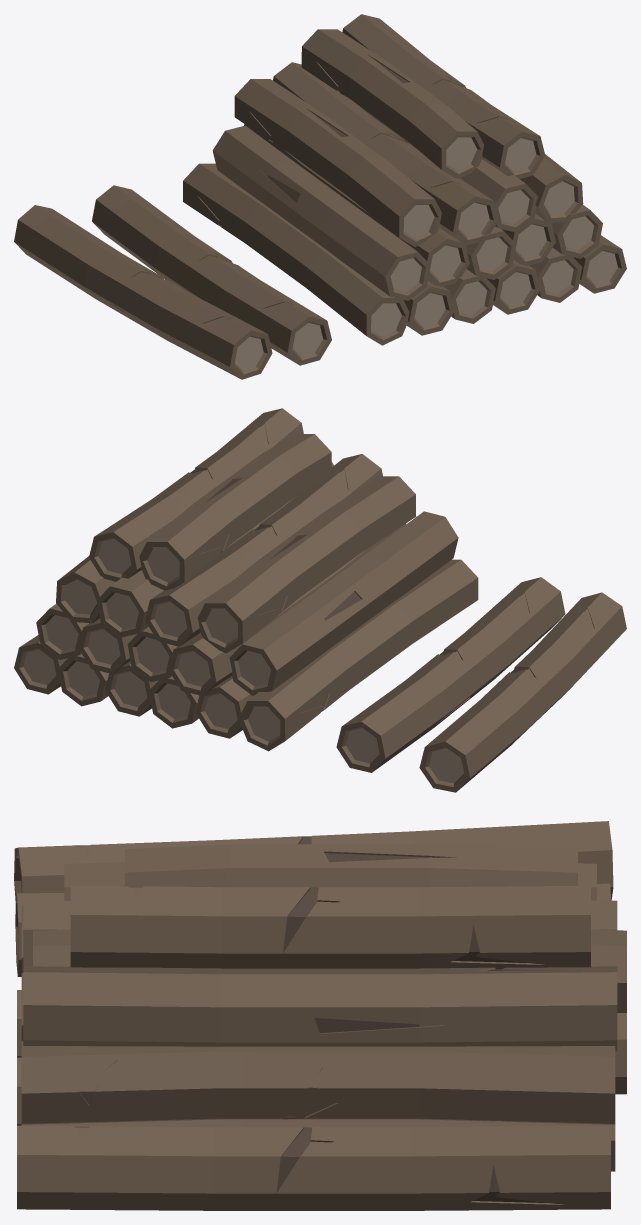
File: props_89.glb
3 views of the same model, one above another, from view 1: azimuth 30°, elevation 25°; view 2: azimuth 150°, elevation 25°; view 3: azimuth 270°, elevation 25° (orthographic). The views are drawn at different scales.
Parts seen in each view (by area): view 1: props_89; view 2: props_89; view 3: props_89.
Boxes of the visible parts, x1,y1,x2,y2 form: props_89: [14, 14, 626, 379]; props_89: [14, 408, 626, 792]; props_89: [14, 821, 626, 1210].
Bounding box in the file's own units: 1.09 × 0.4065 × 0.8292.
1 material, 1 textured.
